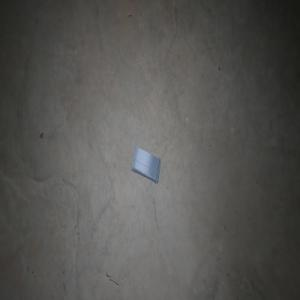PlasticPart: (130, 146, 161, 184)
